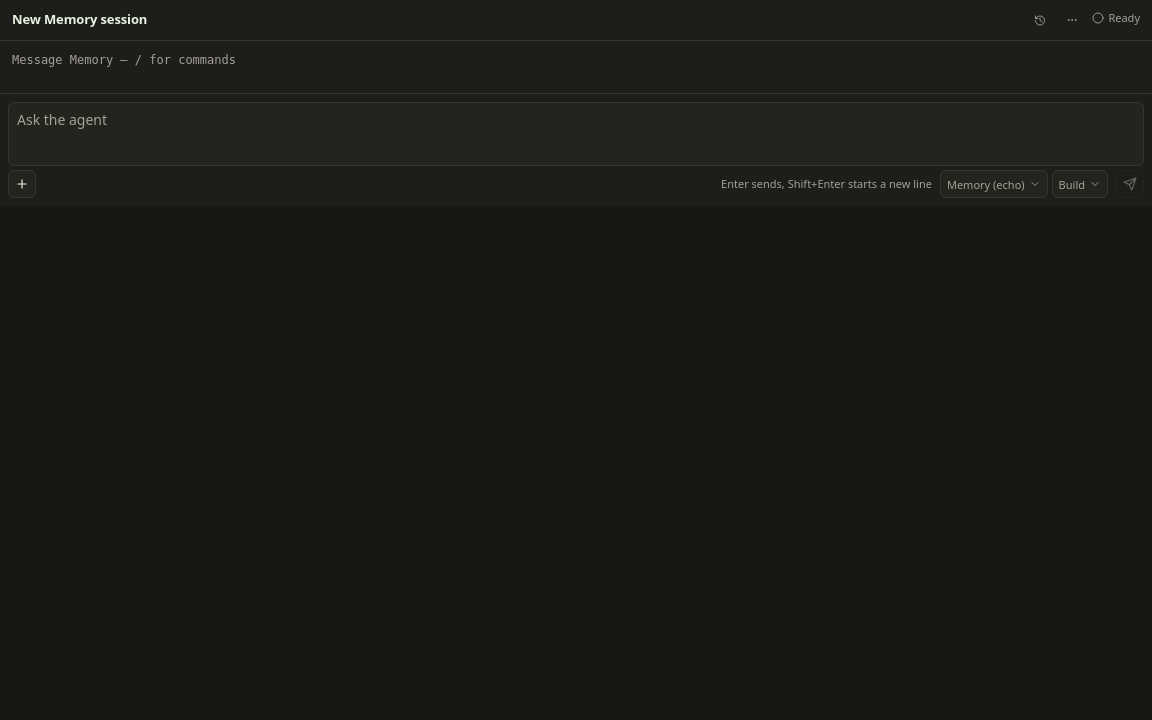
Test: AgentPanel — where its popups land › renders the options menu inside the element that carries the appearance
The image size is (1152, 720).
Click the button named "Agent options".
click(1072, 20)  # box [1060,8,1084,32]
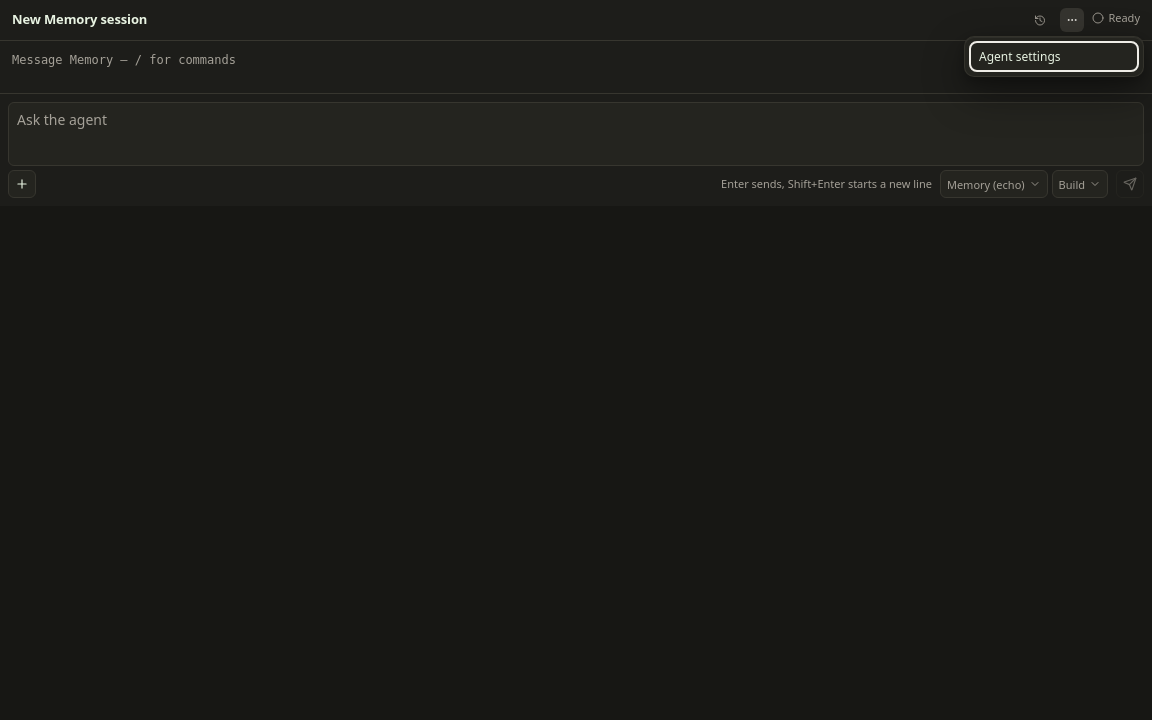
Expected: the menu is shown, [964,36,1144,77]
